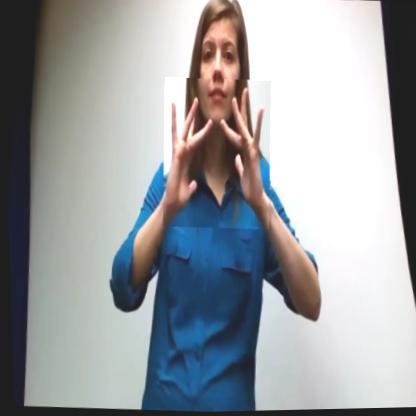Internet: (156, 76, 274, 232)
